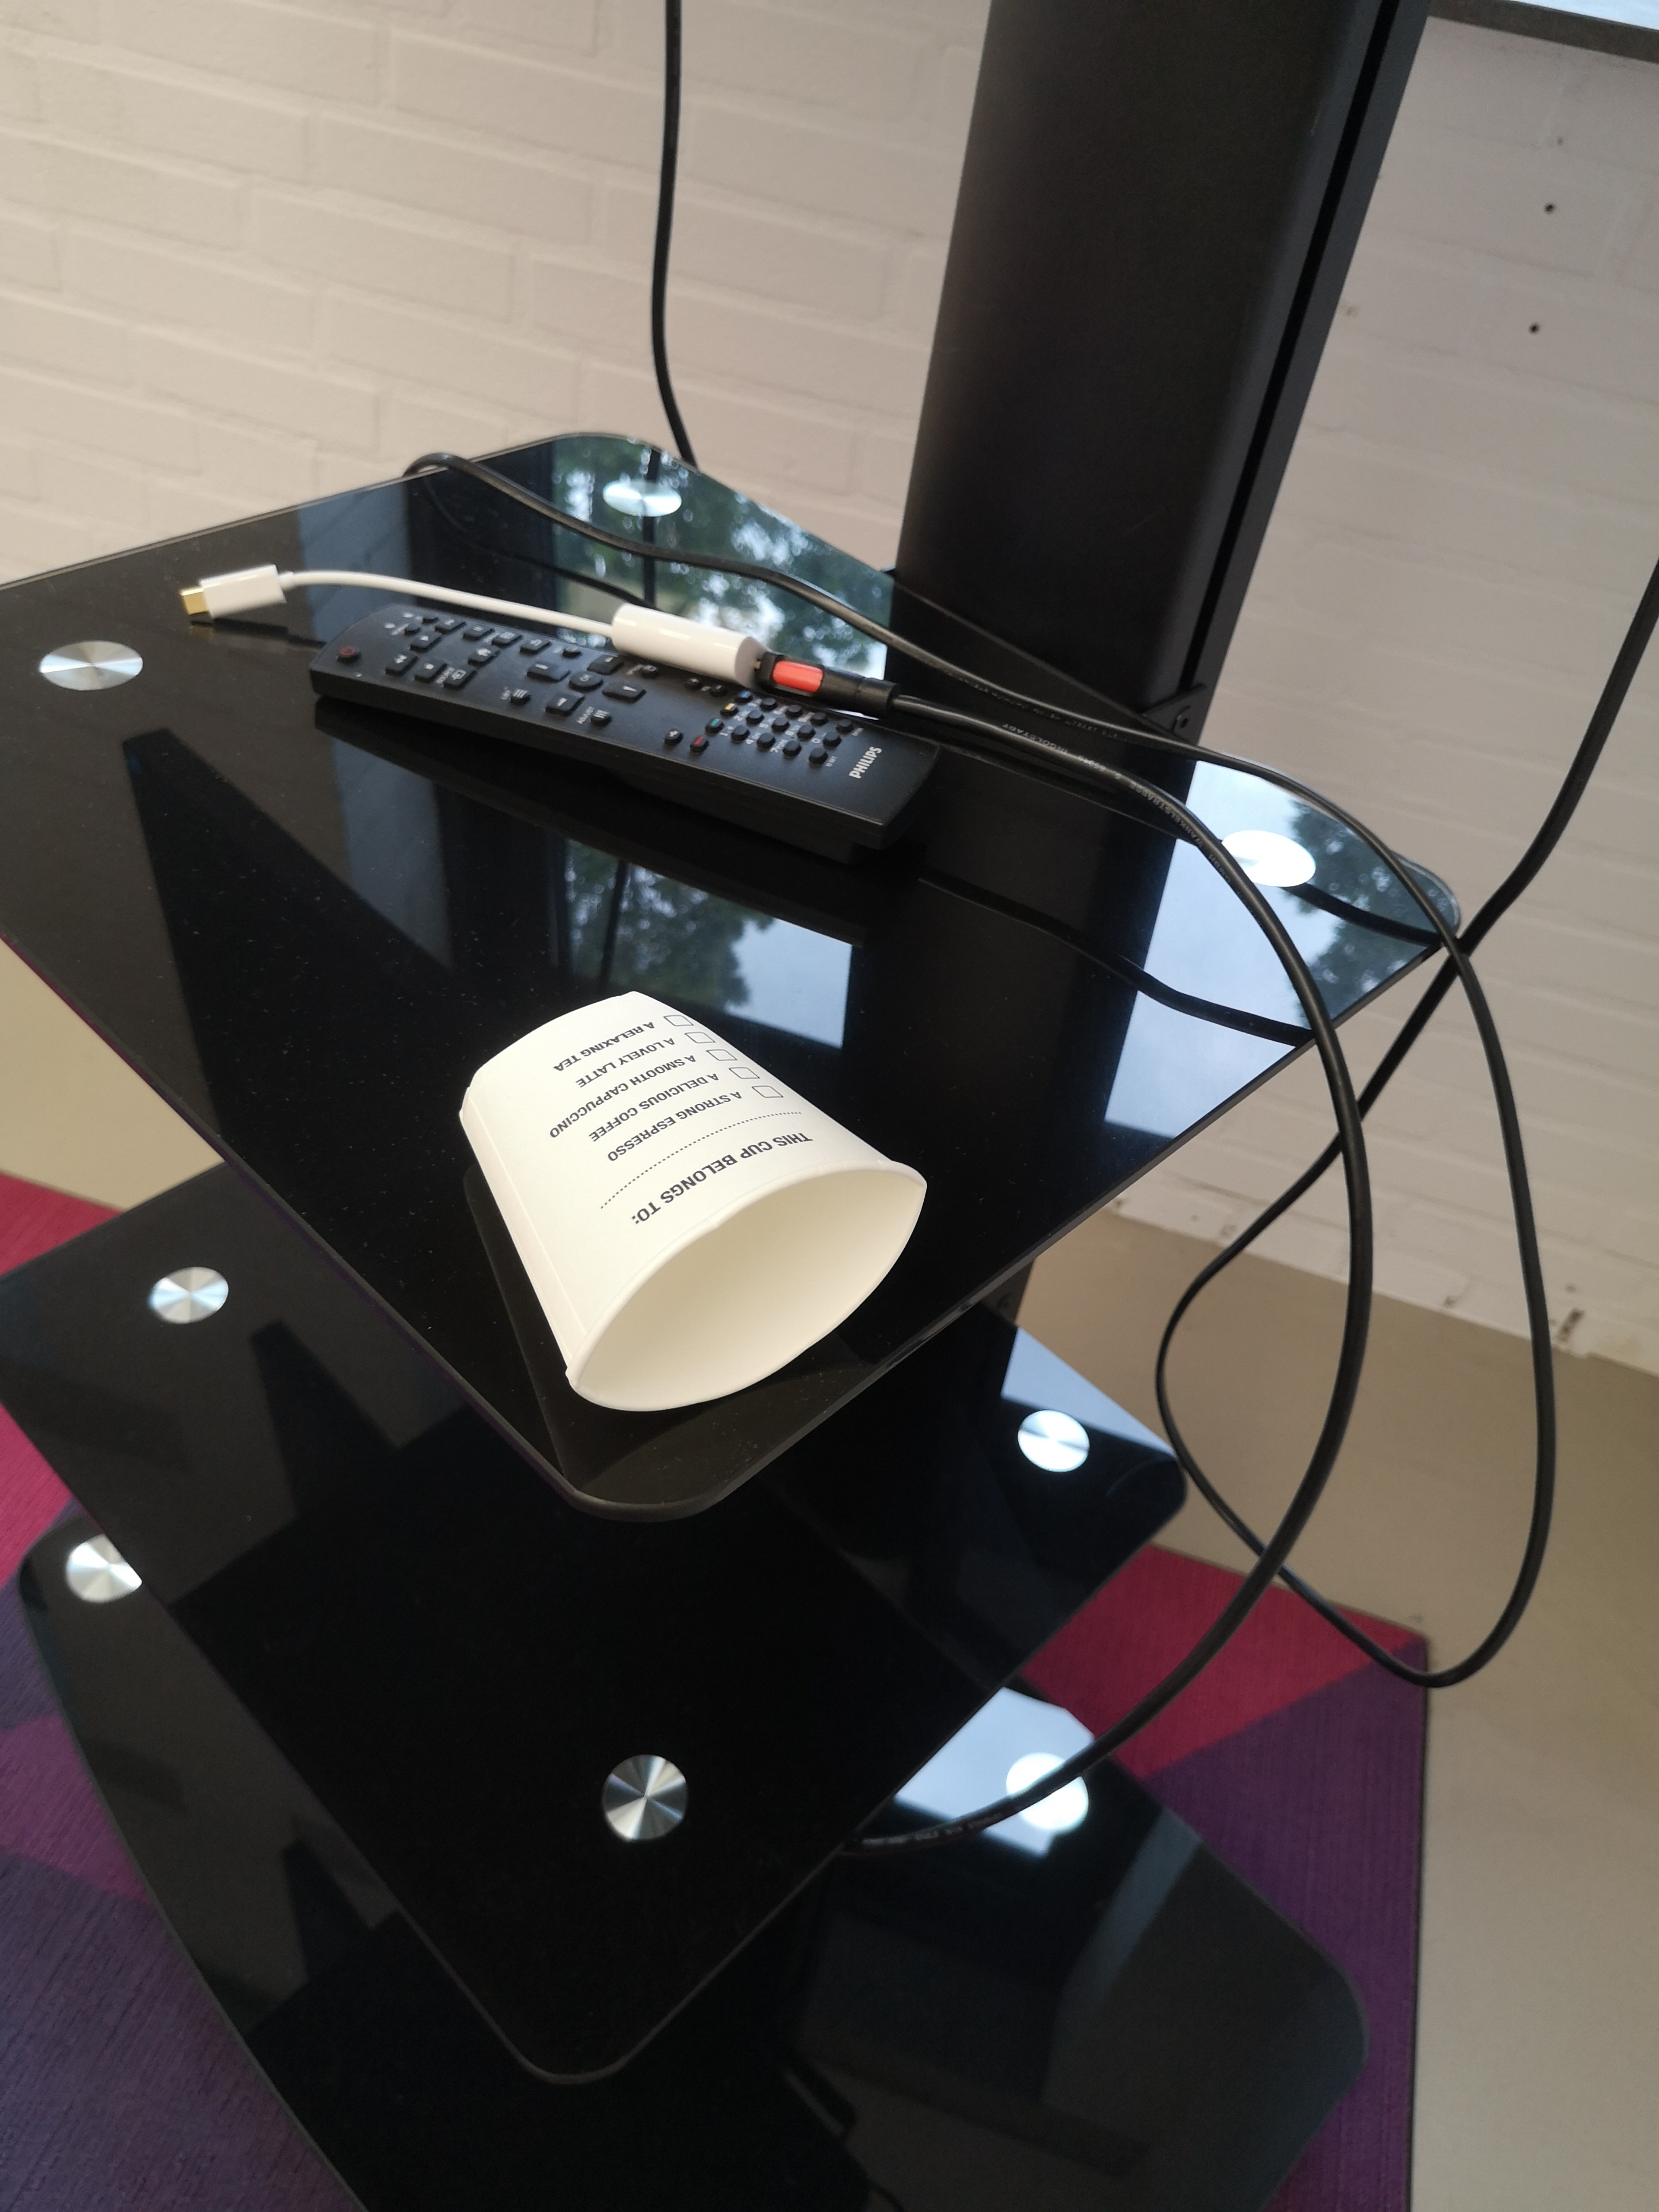cup: (375, 968, 953, 1442)
